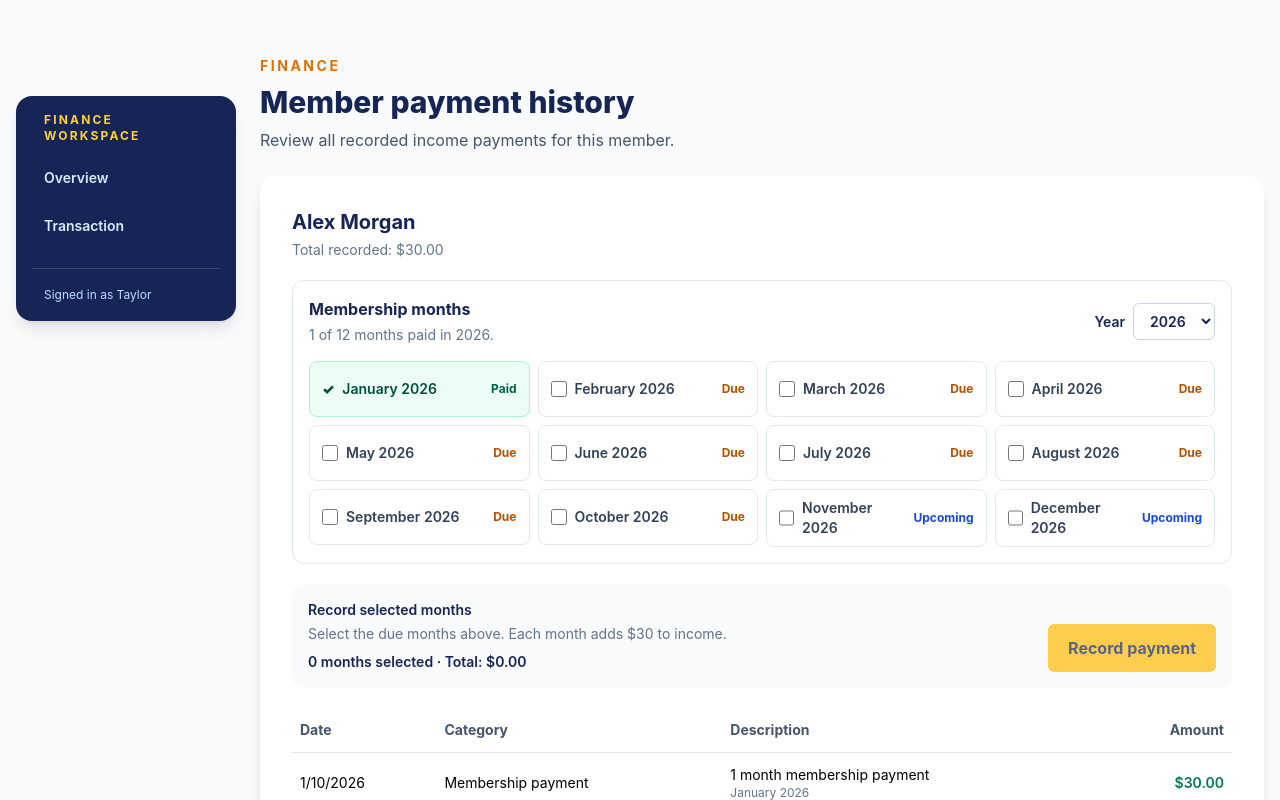
Scenario: Finance › updates paid month status and income total after direct payment recording
Click the checkbox labelled "October 2026 Due" at [558, 517], box left=550, top=509, right=566, bottom=525
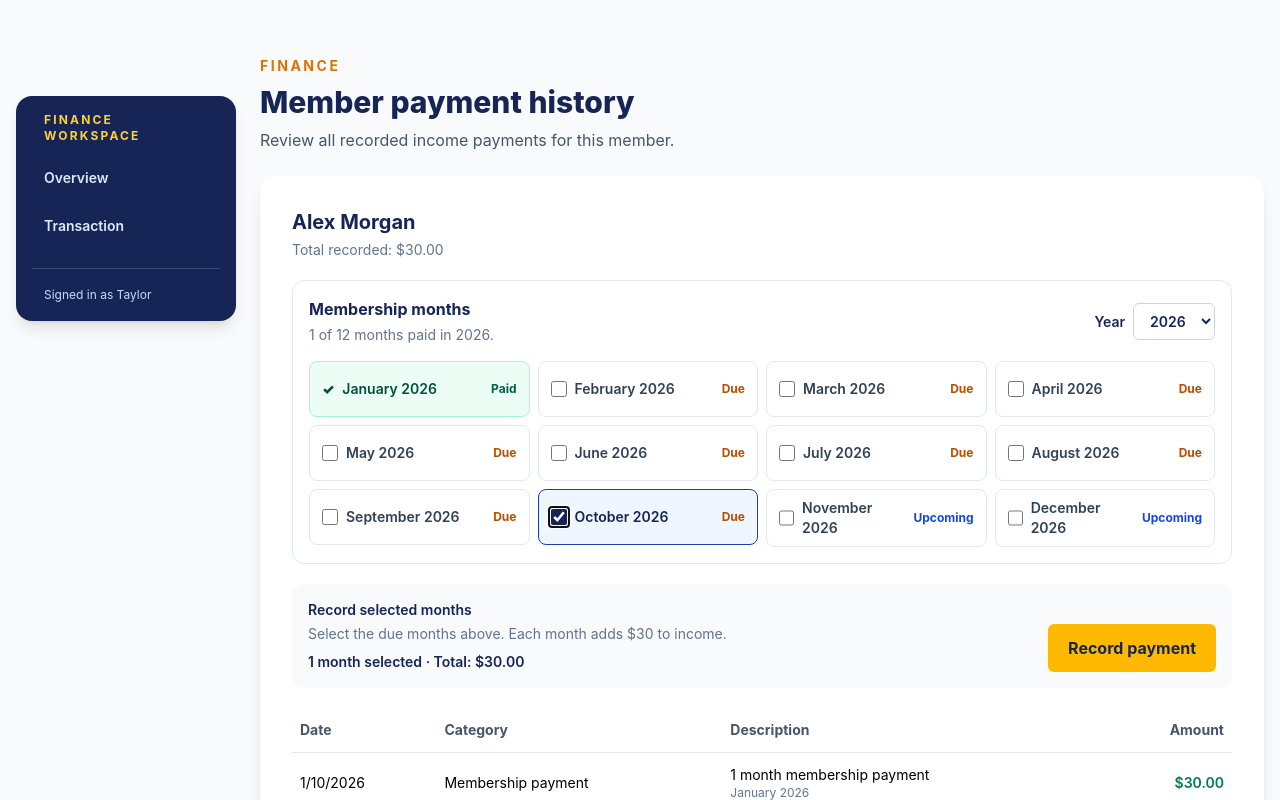
Click the button "Record payment" at [1132, 648], box left=1048, top=624, right=1216, bottom=672
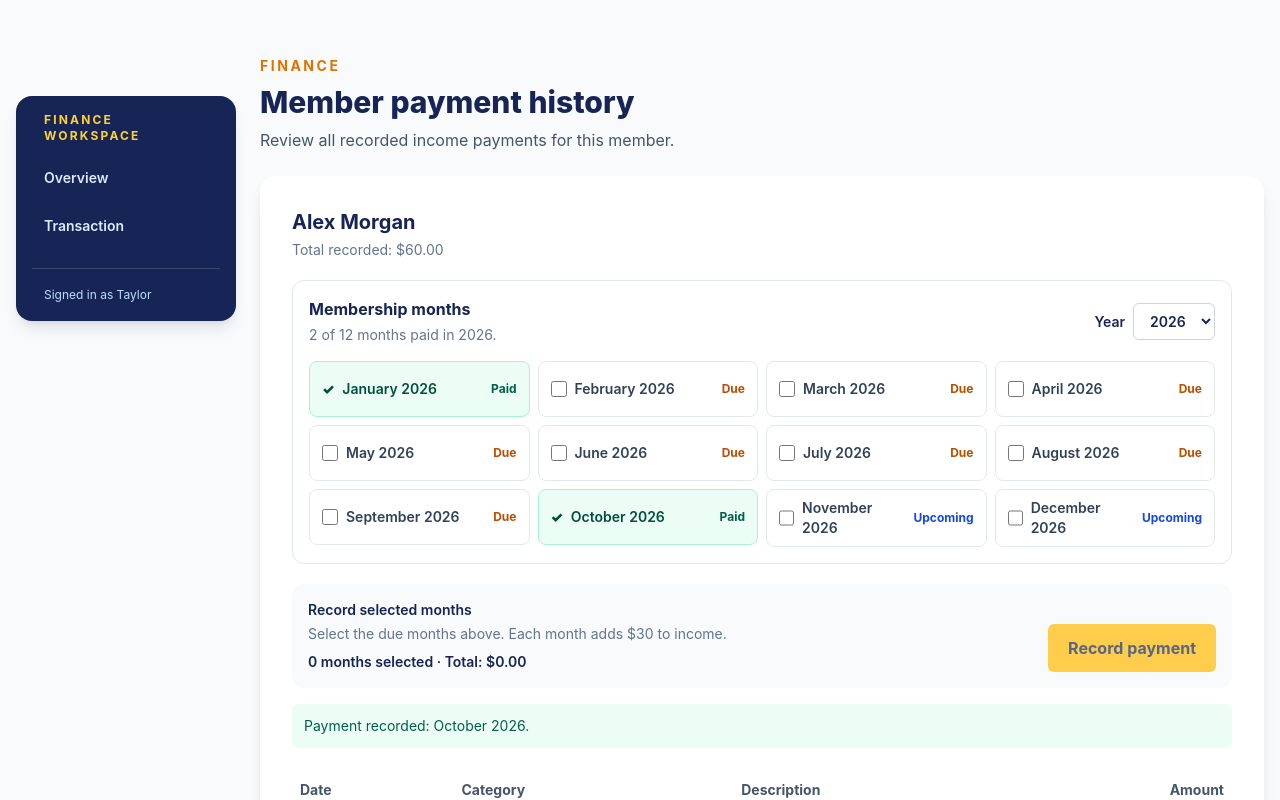
Expected: the text "Paid" is shown 2 times, left=491, top=381, right=516, bottom=397; left=720, top=509, right=745, bottom=525
Result: the text "Total recorded: $60.00" is shown at left=292, top=240, right=444, bottom=260
